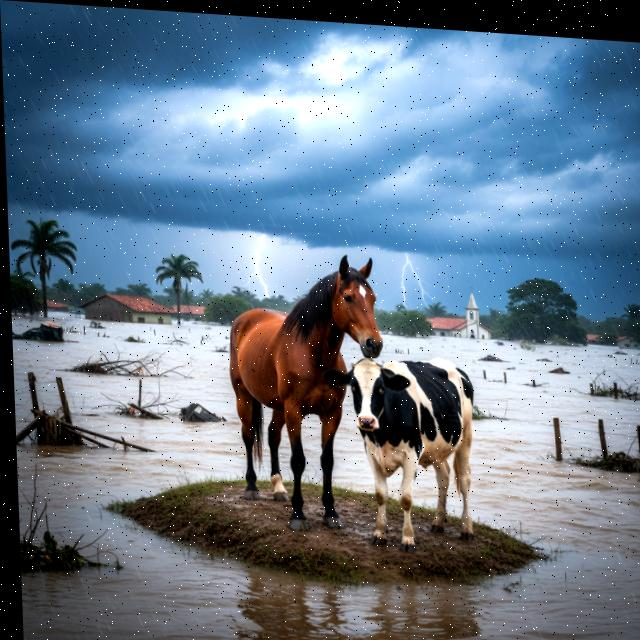cow: (318, 343, 491, 553)
horse: (216, 235, 393, 545)
